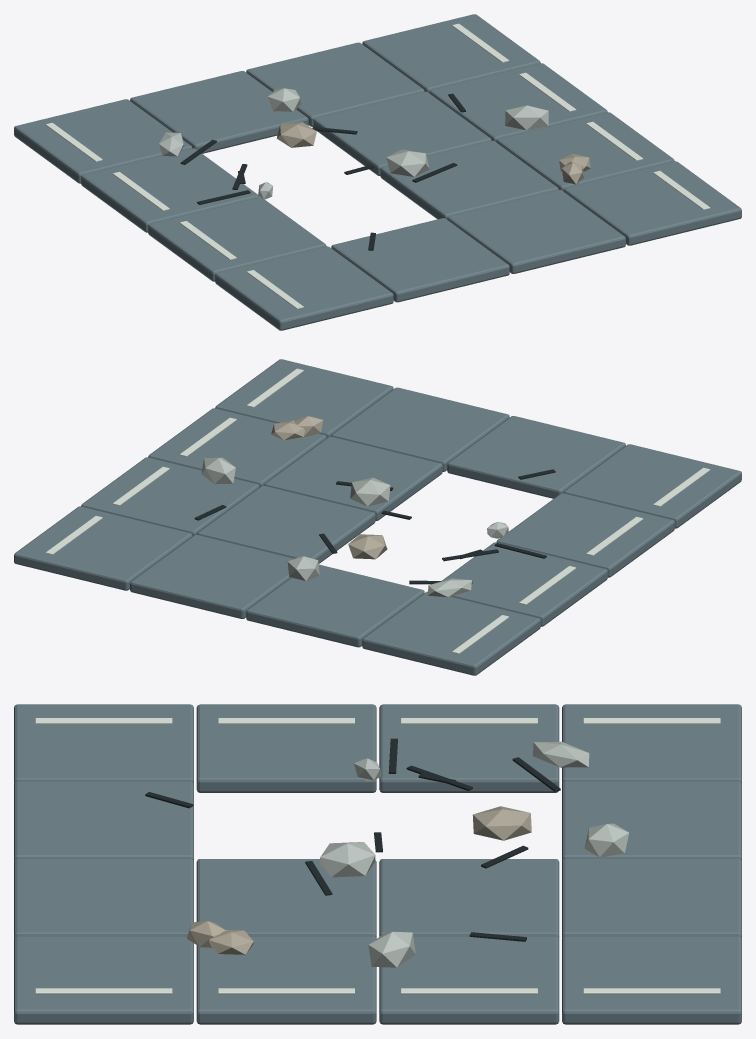
Rendered from road_straight_d2.glb.
3 views of the same model, one above another, from view 1: azimuth 30°, elevation 25°; view 2: azimuth 150°, elevation 25°; view 3: azimuth 270°, elevation 25° (orthographic). The views are drawn at different scales.
Visible parts, largest first — view 1: Road panel.032, Road panel.038, Road panel.036, Road panel.042, Road panel.037, Road panel.033, Road panel.040, Road panel.034, Road panel.039, Road panel.041, Road panel.035, Road panel.045 (+6 smaller); view 2: Road panel.035, Road panel.036, Road panel.041, Road panel.037, Road panel.045, Road panel.040, Road panel.032, Road panel.033, Road panel.038, Road panel.039, Road panel.034, Road panel.044 (+7 smaller); view 3: Road panel.045, Road panel.042, Road panel.033, Road panel.043, Road panel.044, Road panel.041, Road panel.036, Road panel.034, Road panel.038, Road panel.040, Road panel.032, Road panel.037 (+17 smaller).
Part boxes in pixels (left/top/right/bottom): Road panel.032: left=215, top=246, right=393, bottom=330; Road panel.038: left=447, top=189, right=625, bottom=273; Road panel.036: left=331, top=218, right=509, bottom=302; Road panel.042: left=563, top=161, right=741, bottom=245; Road panel.037: left=130, top=71, right=308, bottom=153; Road panel.033: left=148, top=197, right=326, bottom=281; Road panel.040: left=313, top=91, right=491, bottom=175; Road panel.034: left=81, top=148, right=259, bottom=232; Road panel.039: left=380, top=140, right=558, bottom=219; Road panel.041: left=246, top=42, right=424, bottom=126; Road panel.035: left=14, top=99, right=192, bottom=183; Road panel.045: left=362, top=14, right=540, bottom=92; Road panel.035: left=362, top=591, right=540, bottom=675; Road panel.036: left=447, top=416, right=625, bottom=498; Road panel.041: left=130, top=534, right=294, bottom=618; Road panel.037: left=246, top=564, right=424, bottom=647; Road panel.045: left=14, top=506, right=192, bottom=590; Road panel.040: left=197, top=485, right=375, bottom=563; Road panel.032: left=563, top=444, right=741, bottom=528; Road panel.033: left=496, top=493, right=674, bottom=577; Road panel.038: left=331, top=387, right=509, bottom=471; Road panel.039: left=264, top=436, right=442, bottom=520; Road panel.034: left=442, top=542, right=607, bottom=626; Road panel.044: left=81, top=457, right=259, bottom=536; Road panel.045: left=562, top=936, right=741, bottom=1024; Road panel.042: left=14, top=936, right=193, bottom=1024; Road panel.033: left=196, top=704, right=376, bottom=792; Road panel.043: left=196, top=936, right=376, bottom=1024; Road panel.044: left=379, top=936, right=559, bottom=1024; Road panel.041: left=562, top=859, right=741, bottom=938; Road panel.036: left=14, top=781, right=193, bottom=861; Road panel.034: left=379, top=704, right=559, bottom=792; Road panel.038: left=14, top=859, right=193, bottom=938; Road panel.040: left=379, top=859, right=559, bottom=938; Road panel.032: left=14, top=704, right=193, bottom=784; Road panel.037: left=562, top=781, right=741, bottom=861.
Bounding box in the file's own units: 7.97 × 0.5127 × 7.97.
